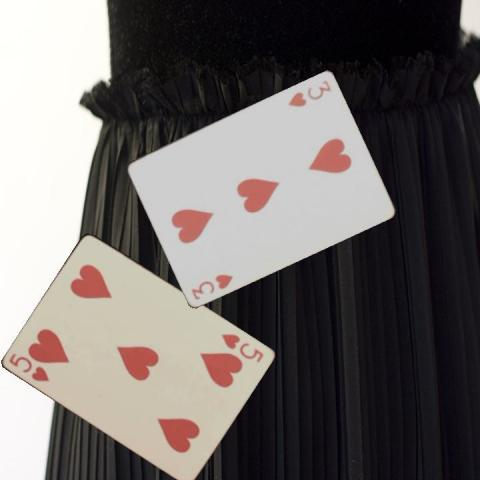3h: (285, 77, 333, 108), (188, 271, 235, 301)
5h: (218, 330, 265, 364), (7, 350, 51, 383)
